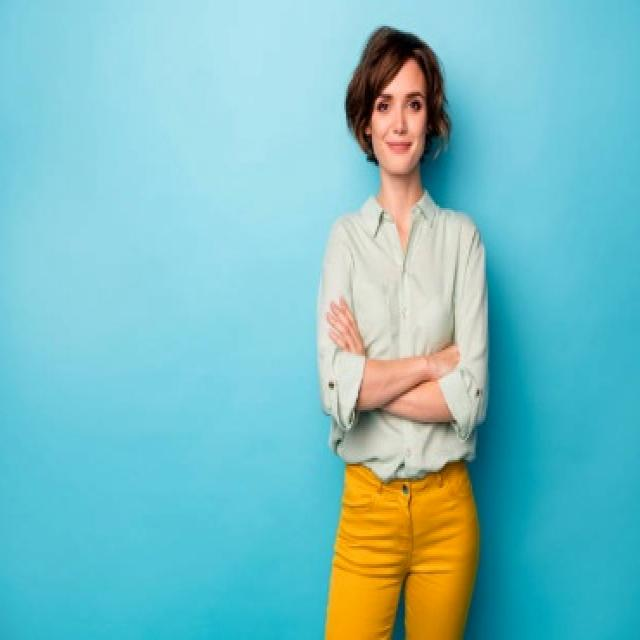adult: (306, 18, 502, 640)
